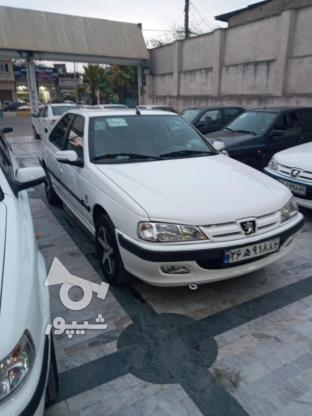car: (223, 237, 283, 265), (275, 179, 308, 198)
